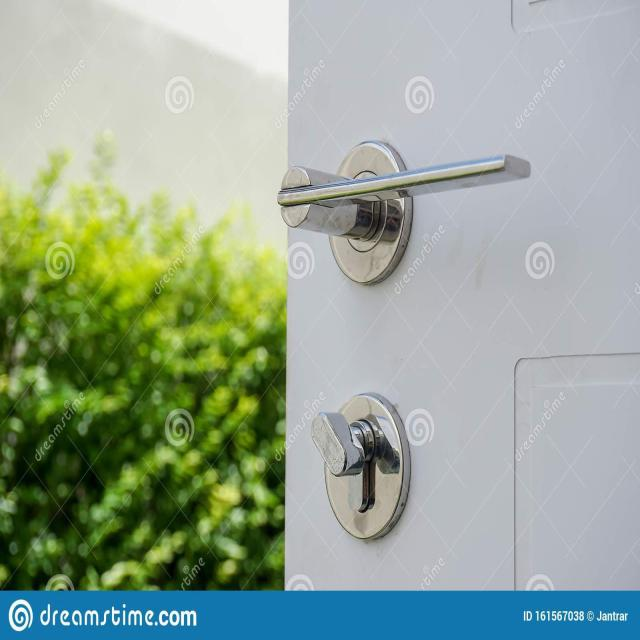doorhandle: (254, 99, 536, 300)
